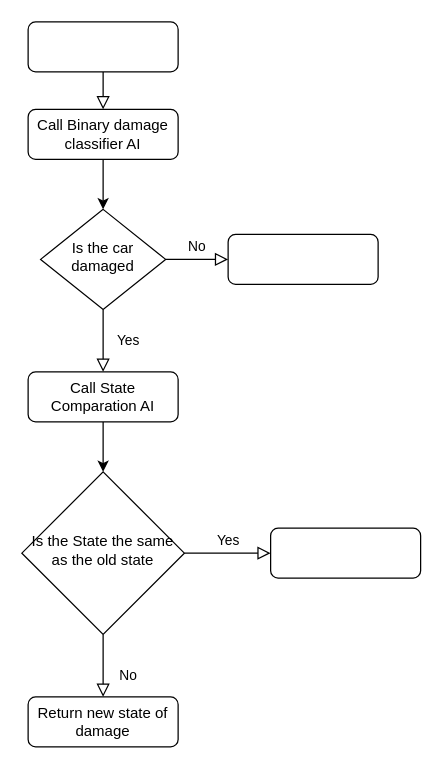
The diagram is 443 pixels wide and 769 high, and some of its shapes have lost their labels. The centre of each missing label's shape, as x and y in pixels:
Image input: point 102,46
Return: point 302,258
Return state of damage: point 345,552
